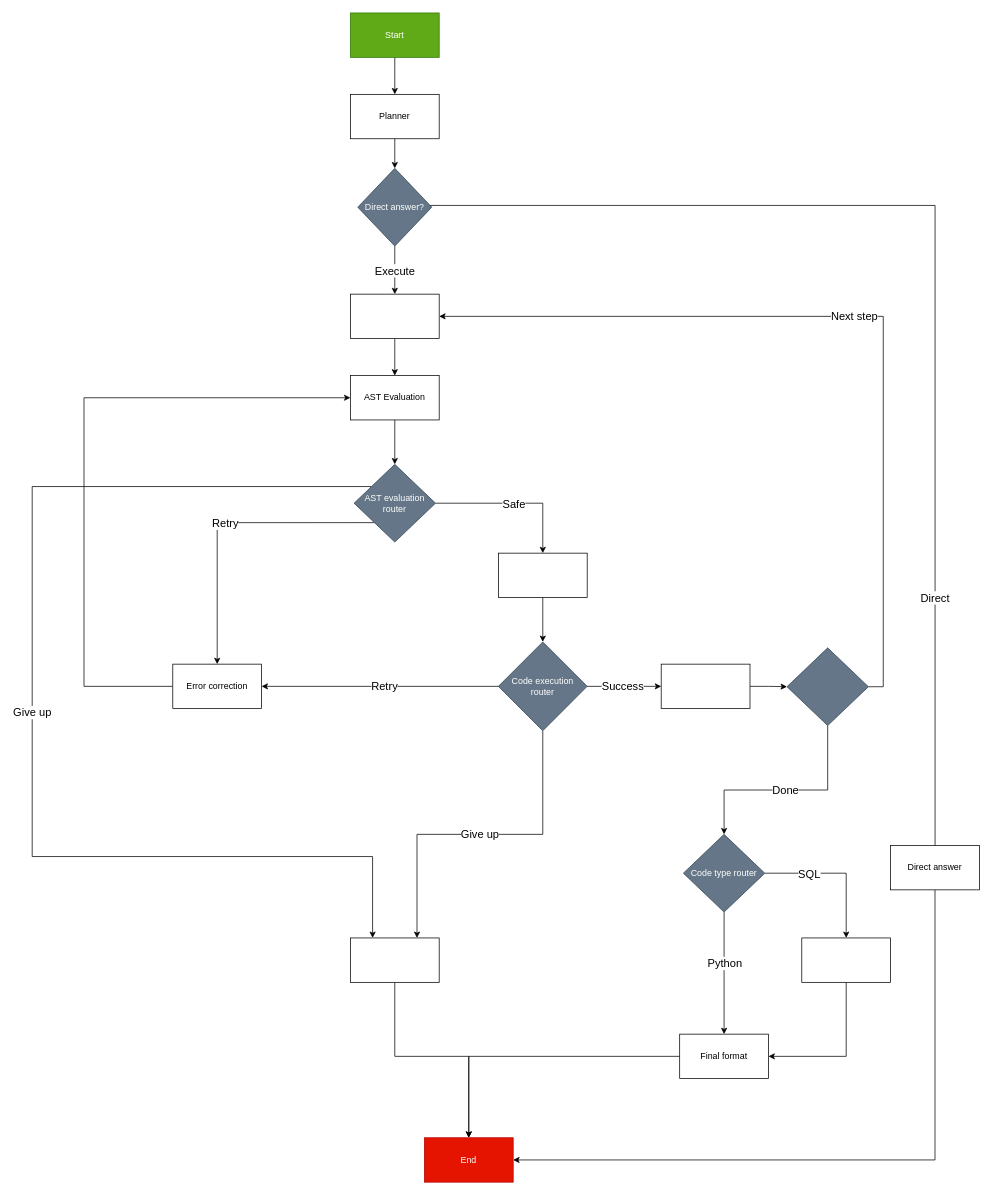
This 998x1195 diagram has some shape labels left out. Here are the shapes that lost their labels. From the top down, the centre of each, then its label:
the point at 394,316: Code generation
the point at 542,575: Code execution
the point at 705,686: Advance step
the point at 827,686: Step router
the point at 394,959: Fallback failure
the point at 846,959: Summarize execution result
